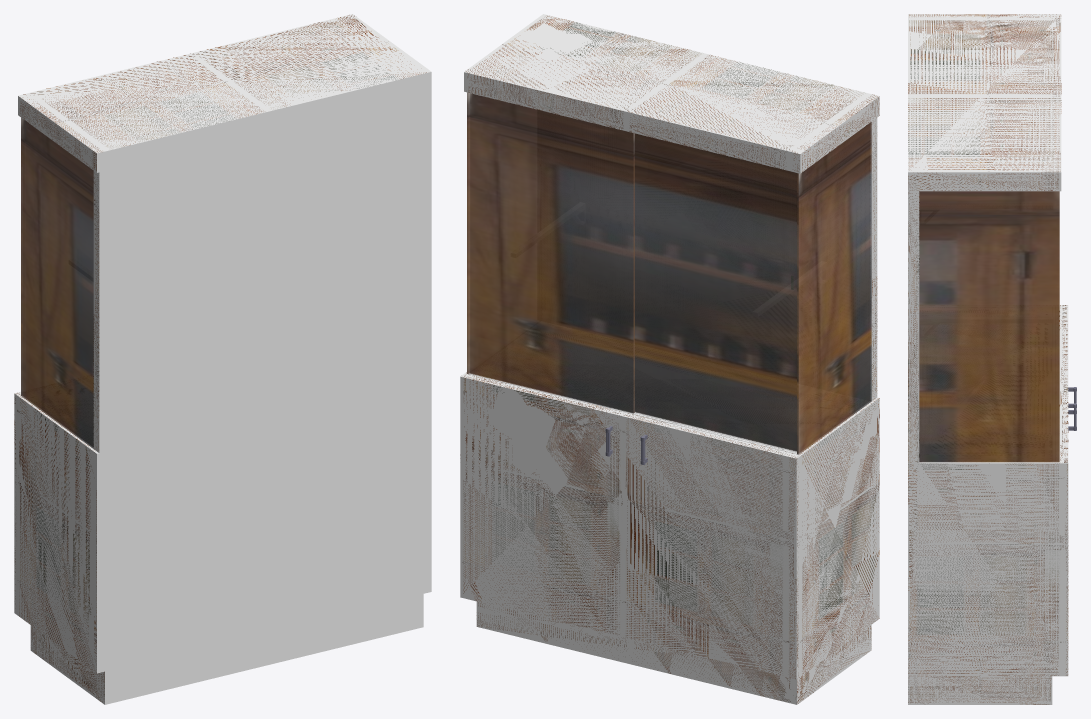
The picture shows the model from 3 angles, left to right: view 1: azimuth 30°, elevation 25°; view 2: azimuth 150°, elevation 25°; view 3: azimuth 270°, elevation 25°; orthographic projection. The views are drawn at different scales.
Parts seen in each view (by area): view 1: mesh2_mesh2-geometry; view 2: mesh2_mesh2-geometry; view 3: mesh2_mesh2-geometry.
Boxes of the visible parts, x1=… form: mesh2_mesh2-geometry: x1=14, y1=14, x2=431, y2=704; mesh2_mesh2-geometry: x1=460, y1=14, x2=879, y2=704; mesh2_mesh2-geometry: x1=908, y1=14, x2=1068, y2=704.
Bounding box in the file's own units: 0.5201 × 0.8214 × 0.2342.
